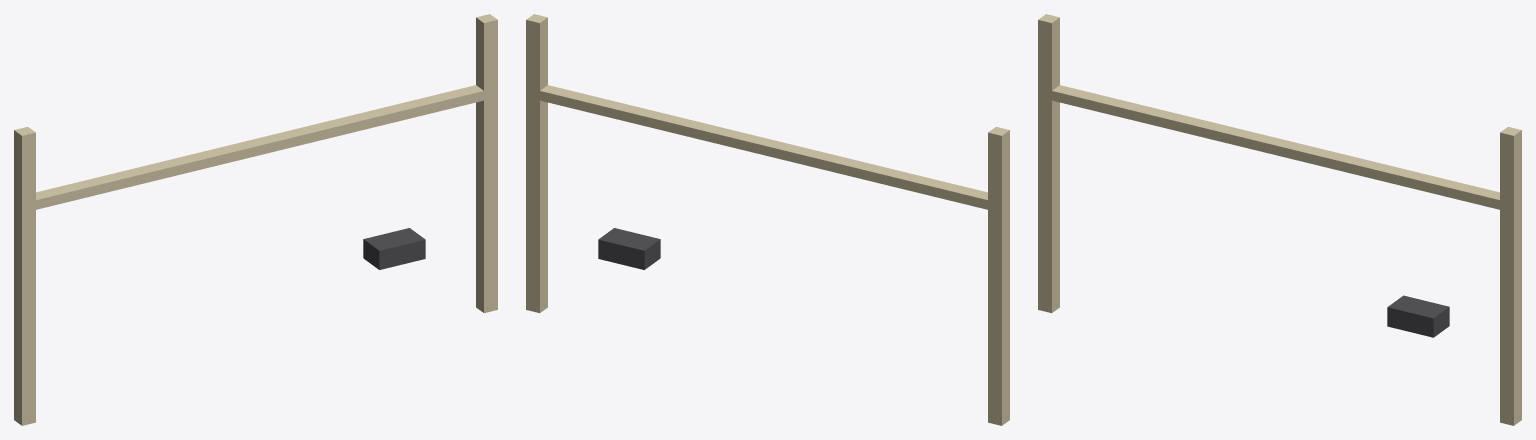
Rendered from ilu_fita_tv.glb.
3 renders of one model, left to right at view 1: azimuth 30°, elevation 25°; view 2: azimuth 150°, elevation 25°; view 3: azimuth 330°, elevation 25°, orthographic.
Visible parts, largest first — view 1: ILU_Fita_Tv_v01; view 2: ILU_Fita_Tv_v01; view 3: ILU_Fita_Tv_v01.
Part boxes in pixels (<box>): ILU_Fita_Tv_v01: <box>14,14,497,425</box>; ILU_Fita_Tv_v01: <box>526,14,1009,425</box>; ILU_Fita_Tv_v01: <box>1038,14,1521,425</box>.
Size of the model in its own units: 1.03 by 0.6 by 0.06.
